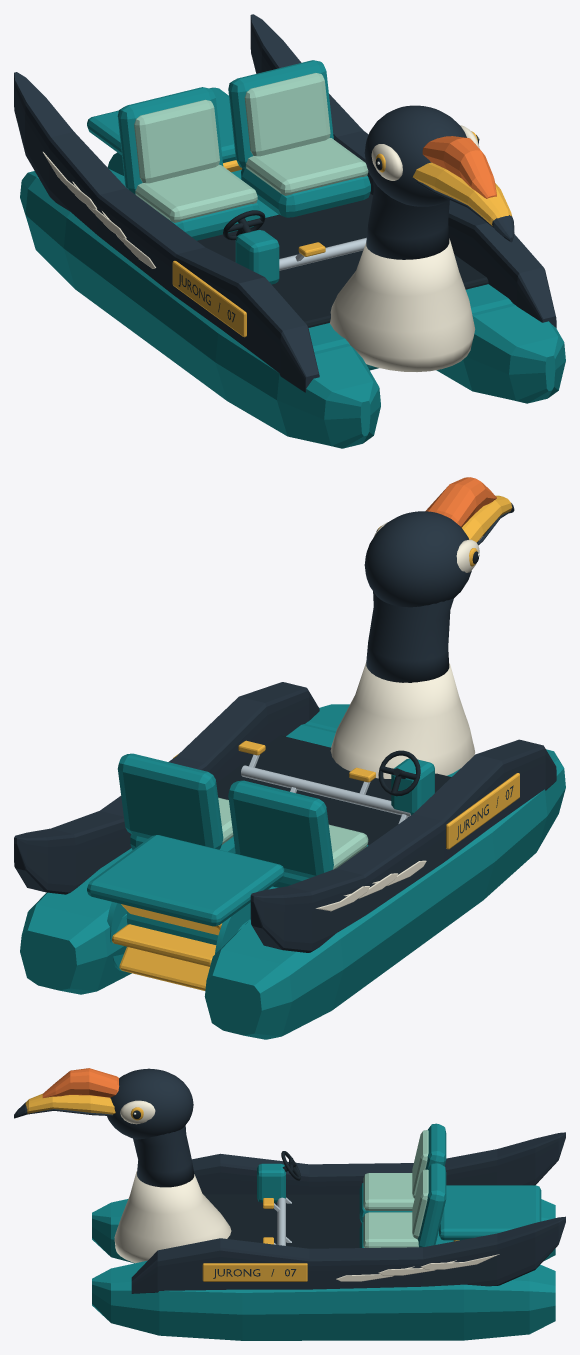
3 renders of one model, top to bottom at view 1: azimuth 30°, elevation 25°; view 2: azimuth 150°, elevation 25°; view 3: azimuth 270°, elevation 25°, orthographic. The views are drawn at different scales.
Parts seen in each view (by area): view 1: Jurong Lake Hornbill Pedalo; view 2: Jurong Lake Hornbill Pedalo; view 3: Jurong Lake Hornbill Pedalo.
Boxes of the visible parts, x1,y1,x2,y2 form: Jurong Lake Hornbill Pedalo: (14, 14, 565, 448); Jurong Lake Hornbill Pedalo: (14, 477, 565, 1039); Jurong Lake Hornbill Pedalo: (14, 1068, 565, 1340).
Size of the model in its own units: 1.62 by 1.75 by 3.79.
